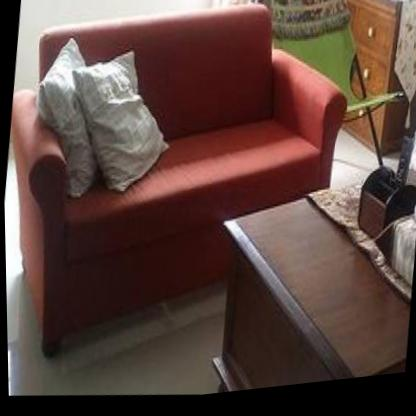Sofa: (0, 0, 364, 394)
